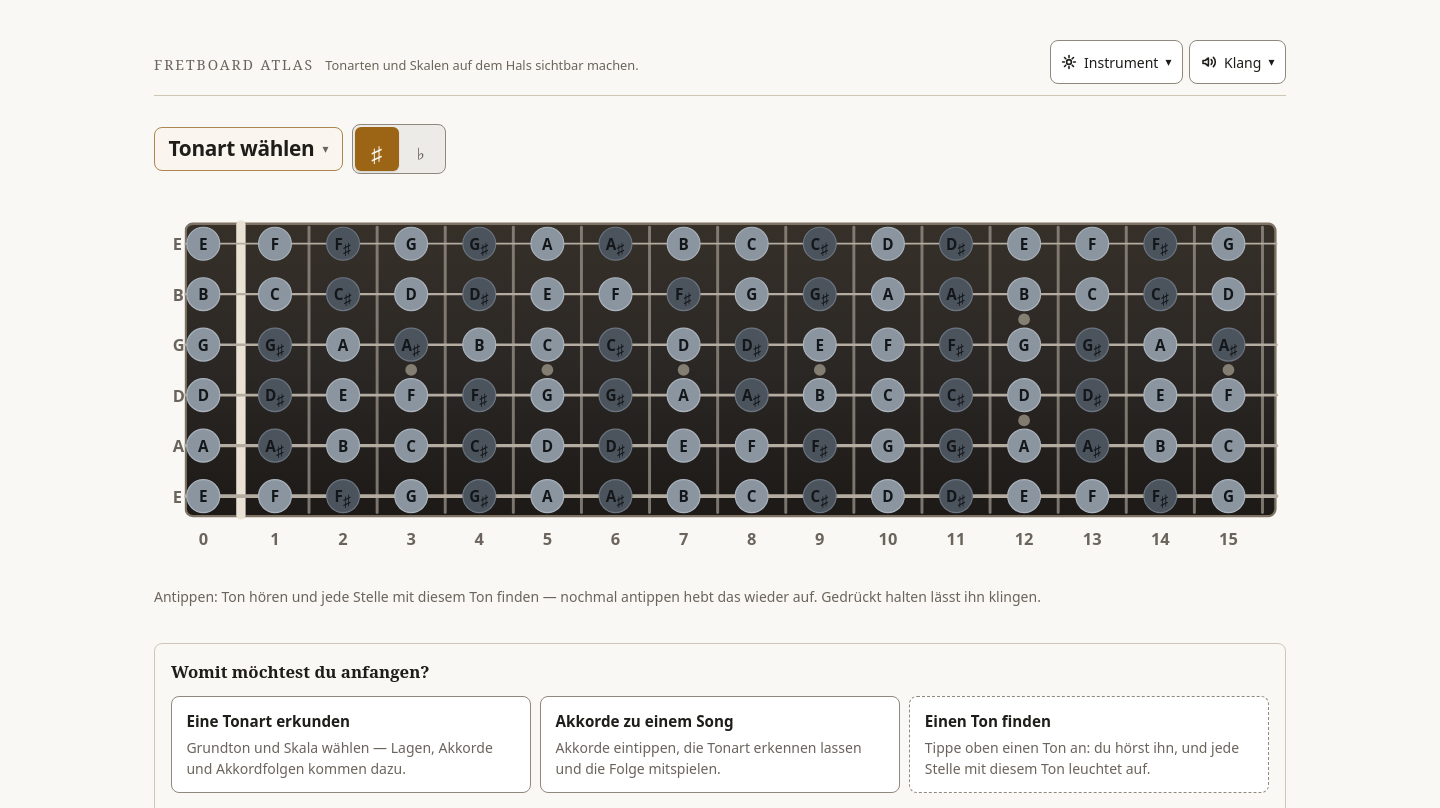
Test case: App — Alle Töne › öffnet den Wähler auch von den Startkarten aus
This screenshot has width=1440, height=808.
Click the button with class "start-card" that starts with "Akkorde zu einem Song" at (720, 744), box [540,696,900,793]
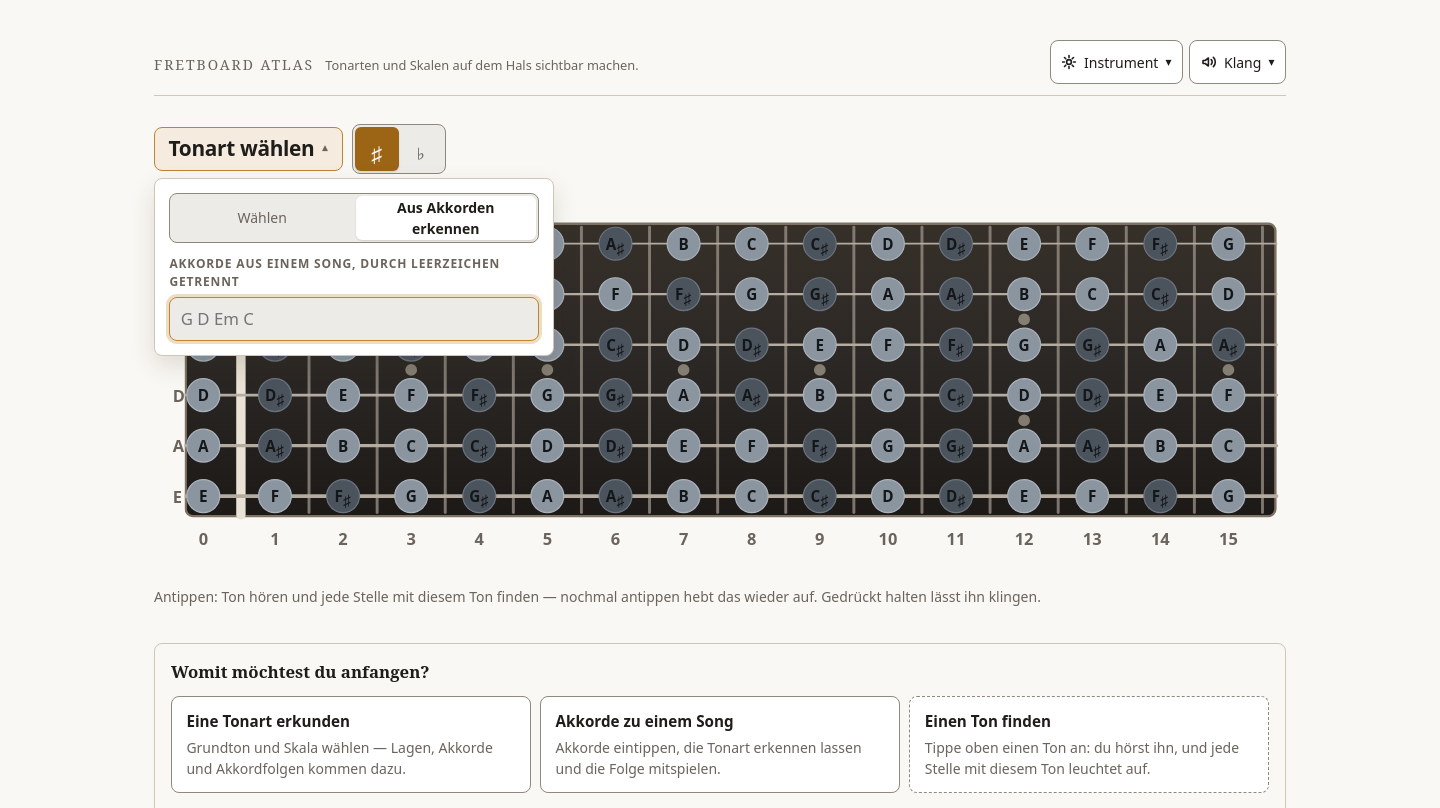
Result: the field labelled "Akkorde aus einem Song, durch Leerzeichen getrennt" is shown at [169,297,539,341]
